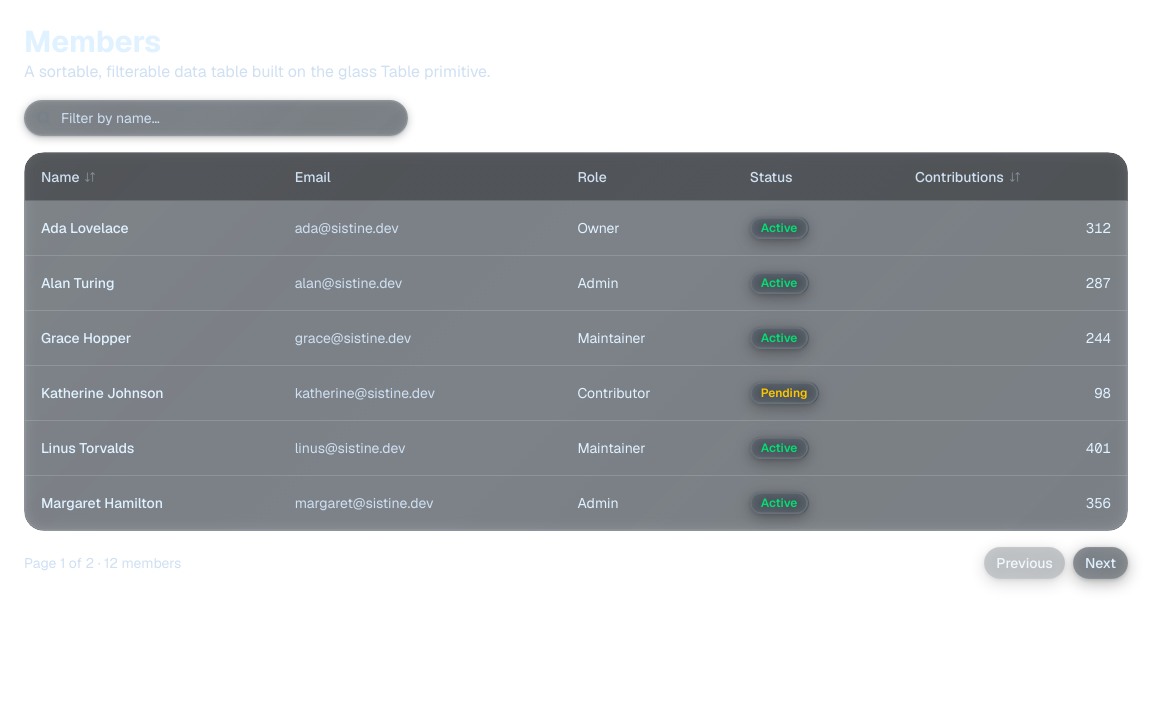
DataTableBlock: react-table v9 features › sorts: clicking the Name header reorders rows and pulls a new member onto page 1
Expected: the text "Barbara Liskov" is not shown
Click the button "Name" at coordinates (69, 176), box left=41, top=166, right=98, bottom=186
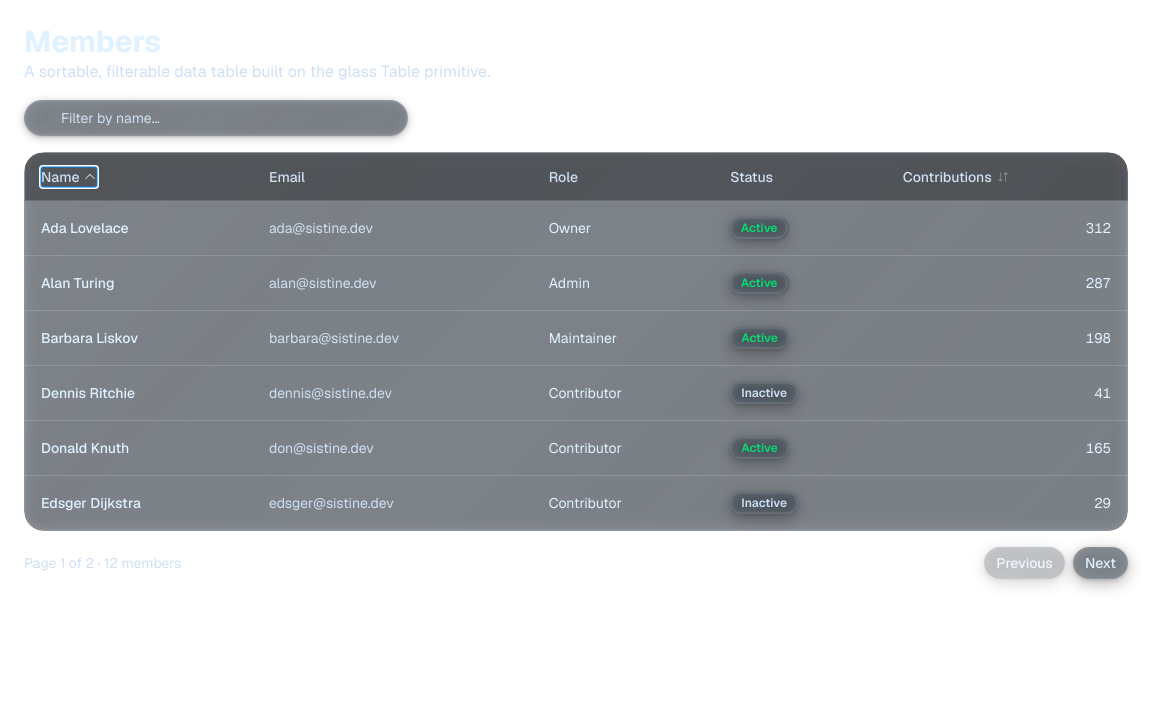
Result: the text "Barbara Liskov" is shown at left=41, top=329, right=138, bottom=347
Click the button "Name" at coordinates (69, 176), box left=41, top=166, right=98, bottom=186
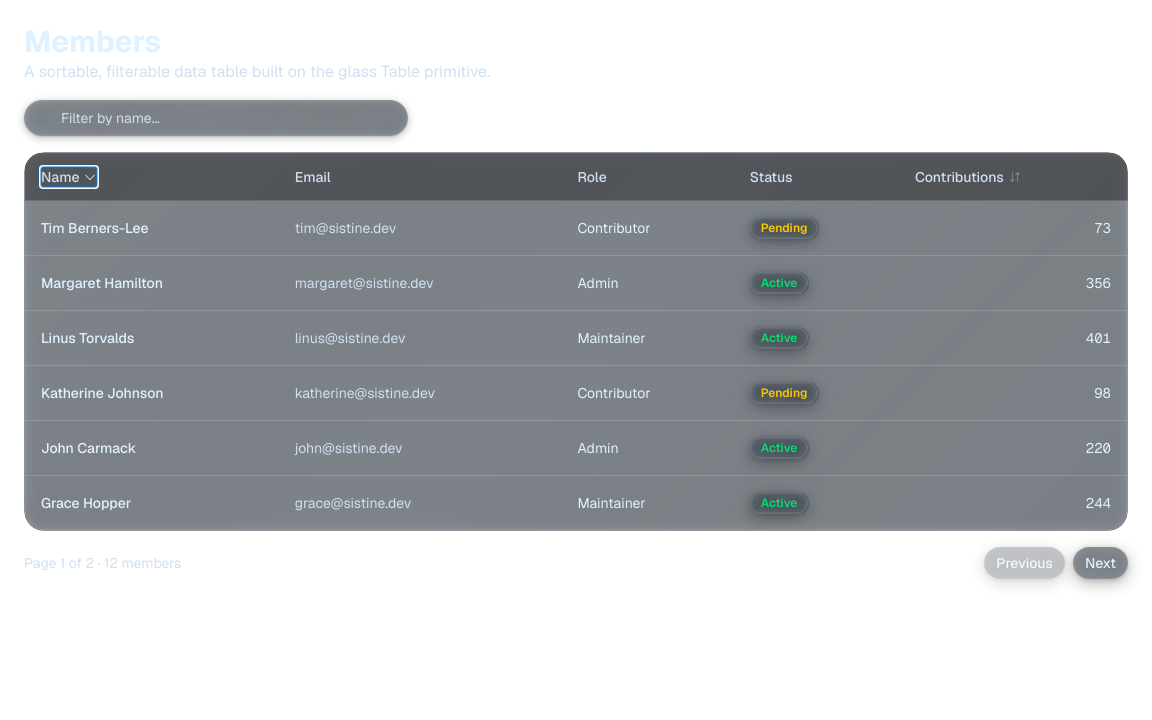
Result: the text "Tim Berners-Lee" is shown at left=41, top=219, right=149, bottom=237
